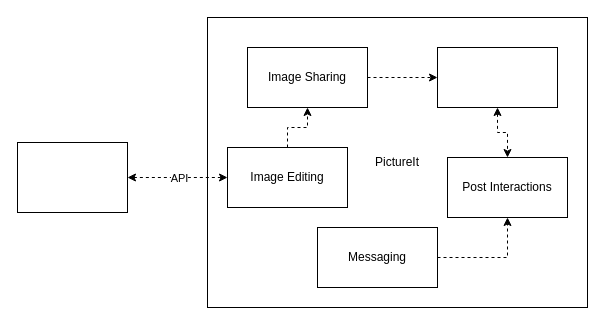
Some shapes in this 605 by 325 pixel diagram are drawn without their labels. Each missing label, with the centre of its shape:
"Image Viewing" belongs at point 497,77.
"Pixlr" belongs at point 72,177.
